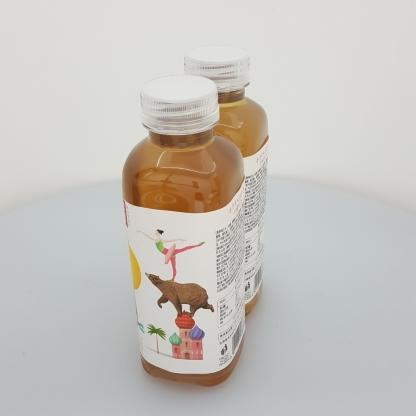------------: (121, 75, 245, 387)
